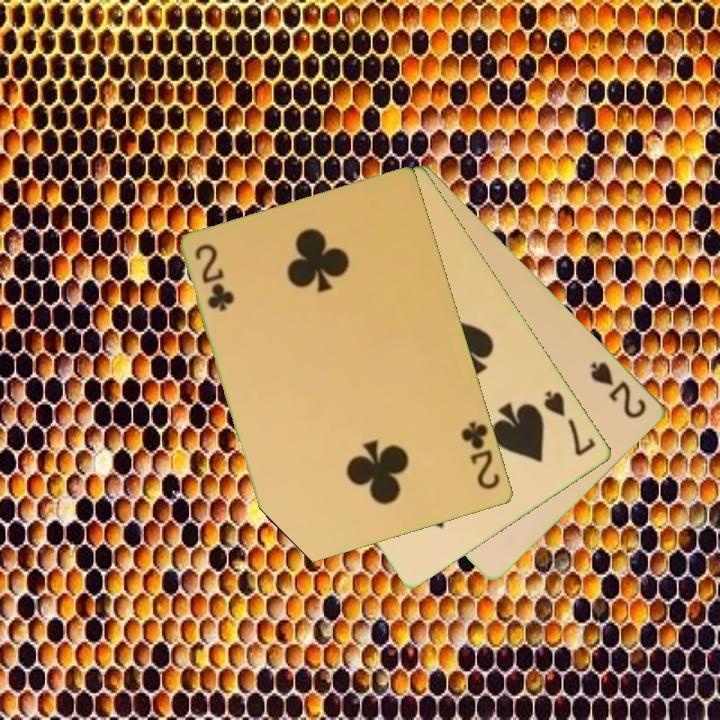2c: (458, 418, 503, 493), (192, 240, 236, 315)
2s: (588, 358, 650, 421)
7s: (540, 387, 599, 460)
